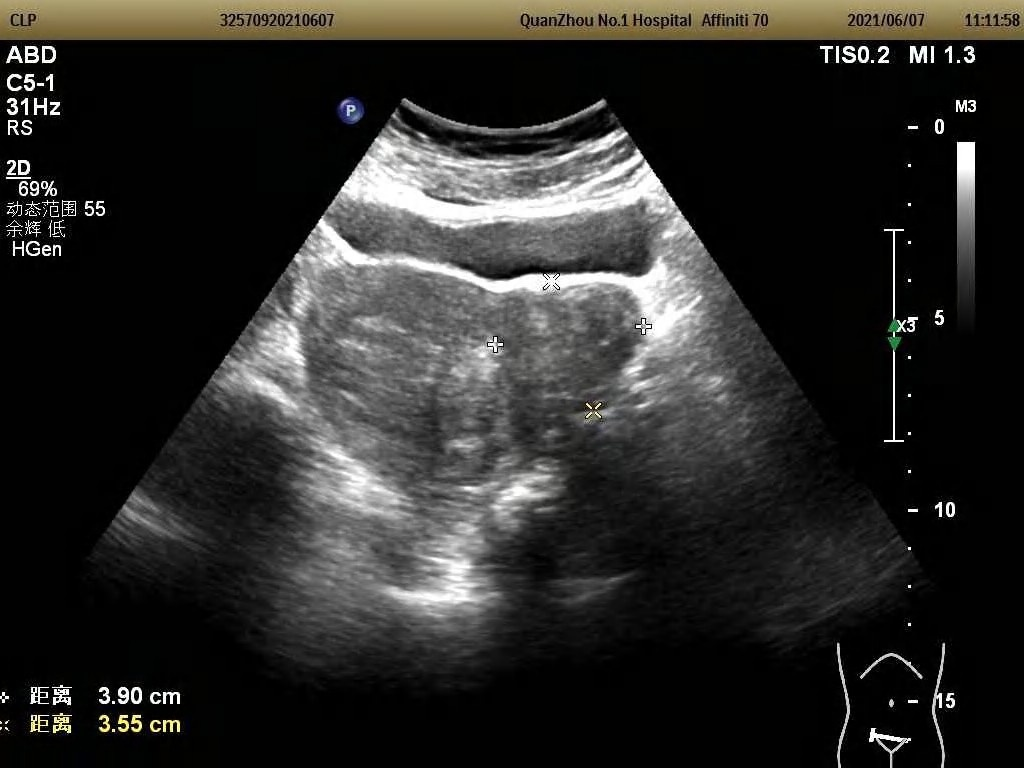肌瘤: (501, 293, 638, 404)
